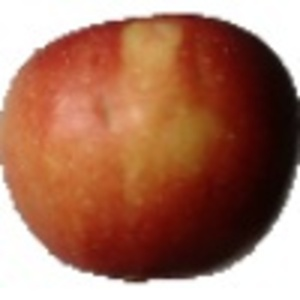maçã braeburn: (1, 12, 300, 281)
